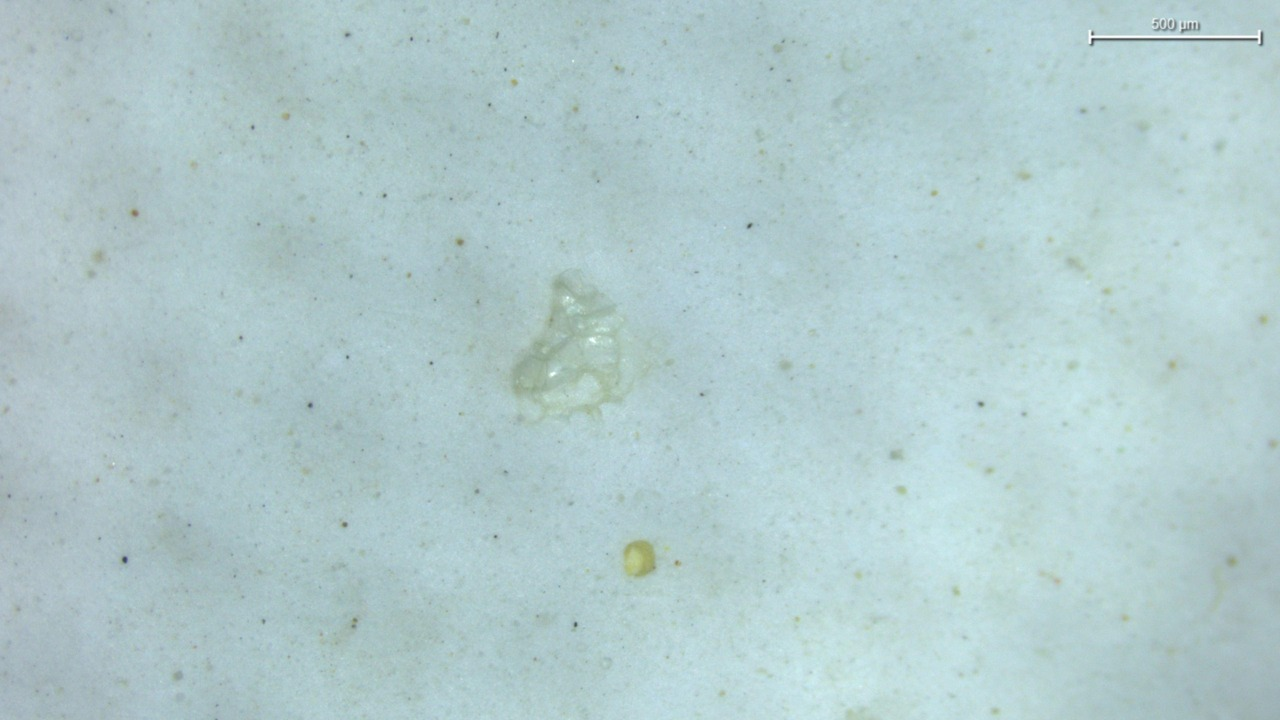microplastic_fragment: (514, 270, 623, 401)
